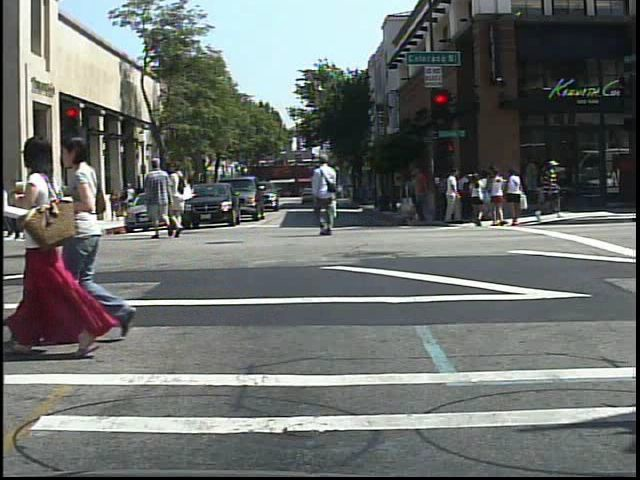person: (4, 129, 109, 364), (60, 124, 151, 349), (310, 151, 346, 242), (147, 155, 179, 242), (41, 167, 68, 244), (73, 168, 101, 242), (537, 156, 569, 219), (172, 161, 195, 241), (469, 171, 489, 231)
